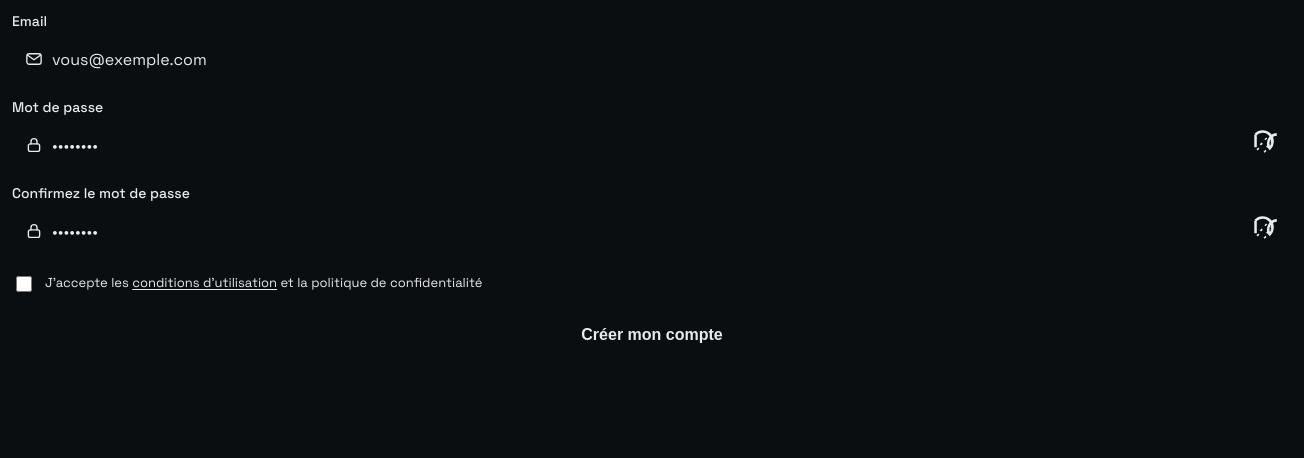
Test: RegisterForm › bloque la soumission vide et signale les champs requis
Step 1. Click the button "Créer mon compte" → coordinates (652, 335), box x1=12 y1=311 x2=1292 y2=359
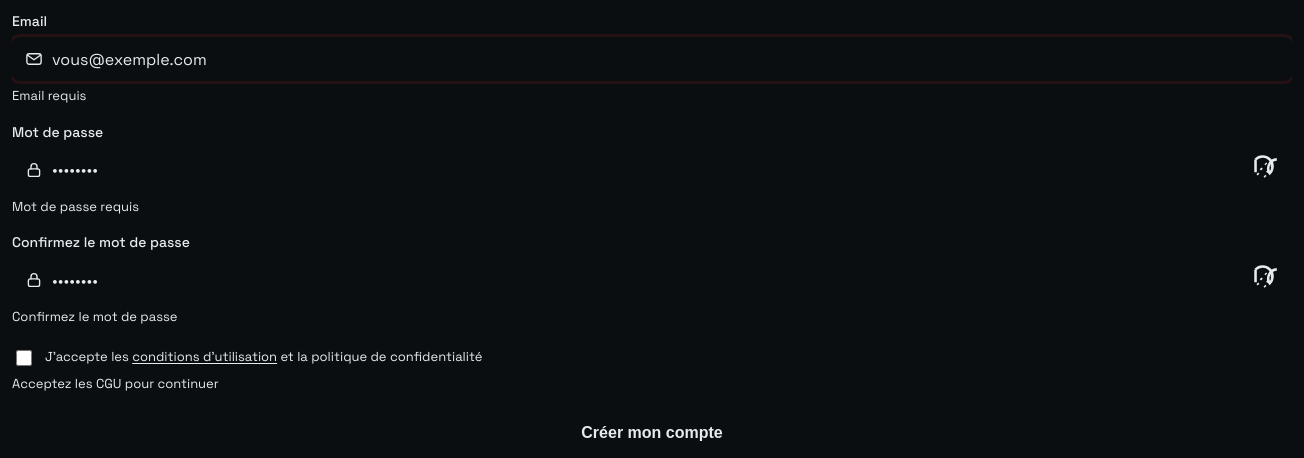
Result: the text "Email requis" is shown at x1=12 y1=87 x2=86 y2=104
Result: the text "Mot de passe requis" is shown at x1=12 y1=198 x2=139 y2=214
Result: the text "Acceptez les CGU pour continuer" is shown at x1=12 y1=374 x2=219 y2=392
